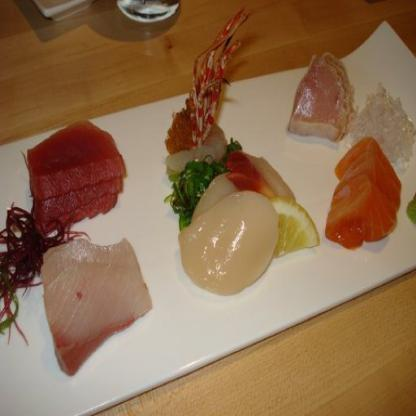salmon: (332, 141, 399, 243)
tuna: (23, 115, 127, 231)
